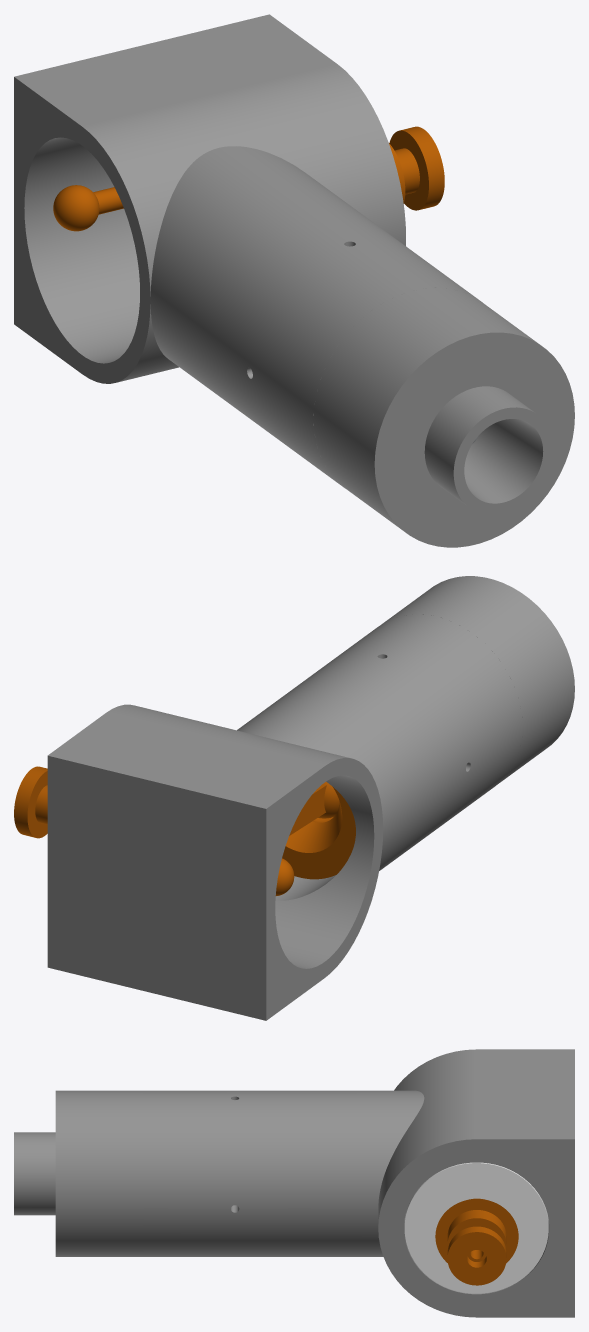
File: cad3.gltf
3 views of the same model, one above another, from view 1: azimuth 30°, elevation 25°; view 2: azimuth 150°, elevation 25°; view 3: azimuth 270°, elevation 25° (orthographic). The views are drawn at different scales.
Parts seen in each view (by area): view 1: Part 1 (×5); view 2: Part 1 (×5); view 3: Part 1 (×5).
Boxes of the visible parts, left/top/right/bottom form: Part 1 (×5): left=14, top=14, right=574, bottom=547; Part 1 (×5): left=14, top=576, right=574, bottom=1020; Part 1 (×5): left=14, top=1049, right=574, bottom=1317.
Bounding box in the file's own units: 0.0434 × 0.03 × 0.0855.
